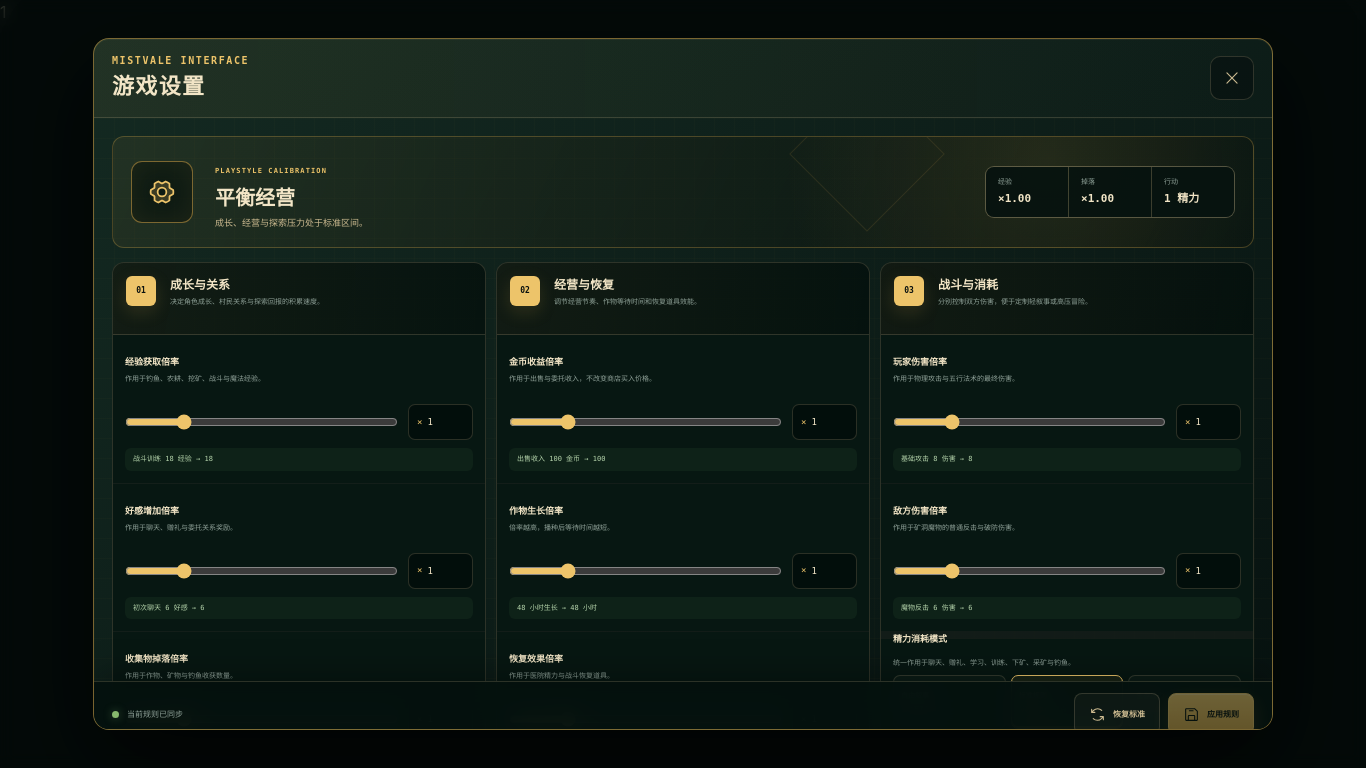
游戏玩法设置 › 提供九项真实规则、实时示例，并仅在应用后更新游戏状态
The image size is (1366, 768).
Expected: the text "战斗训练 18 经验 → 18" is shown, top-left (125, 448), bottom-right (473, 471)
Replace the text in the number field named "经验获取倍率数值" with "2" at (447, 422), box top-left (422, 405), bottom-right (472, 439)
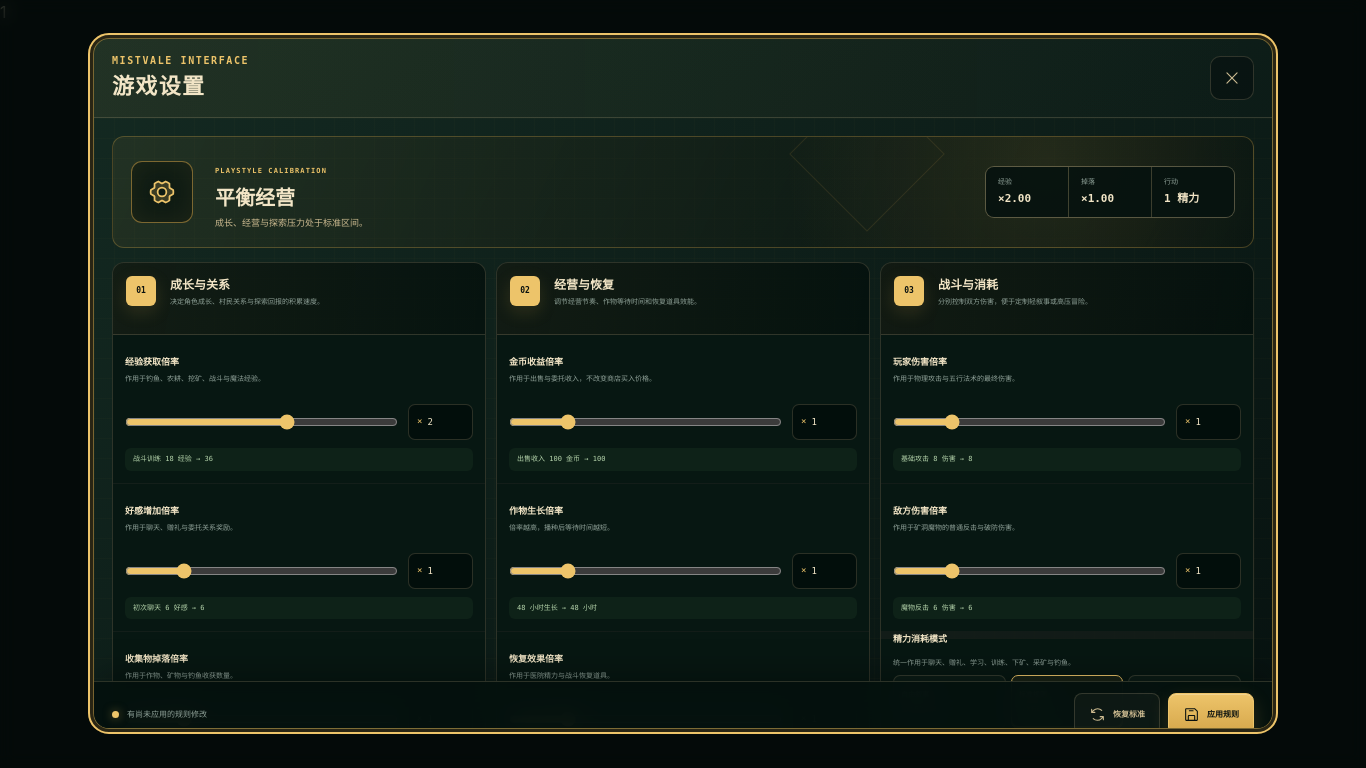
Expected: the text named "当前经验倍率" reads "1", top-left (0, 2), bottom-right (6, 22)
Now the text "战斗训练 18 经验 → 36" is shown, box top-left (125, 448), bottom-right (473, 471)
Click the button with aria-label "应用玩法规则" at (1211, 714), box top-left (1168, 693), bottom-right (1254, 735)
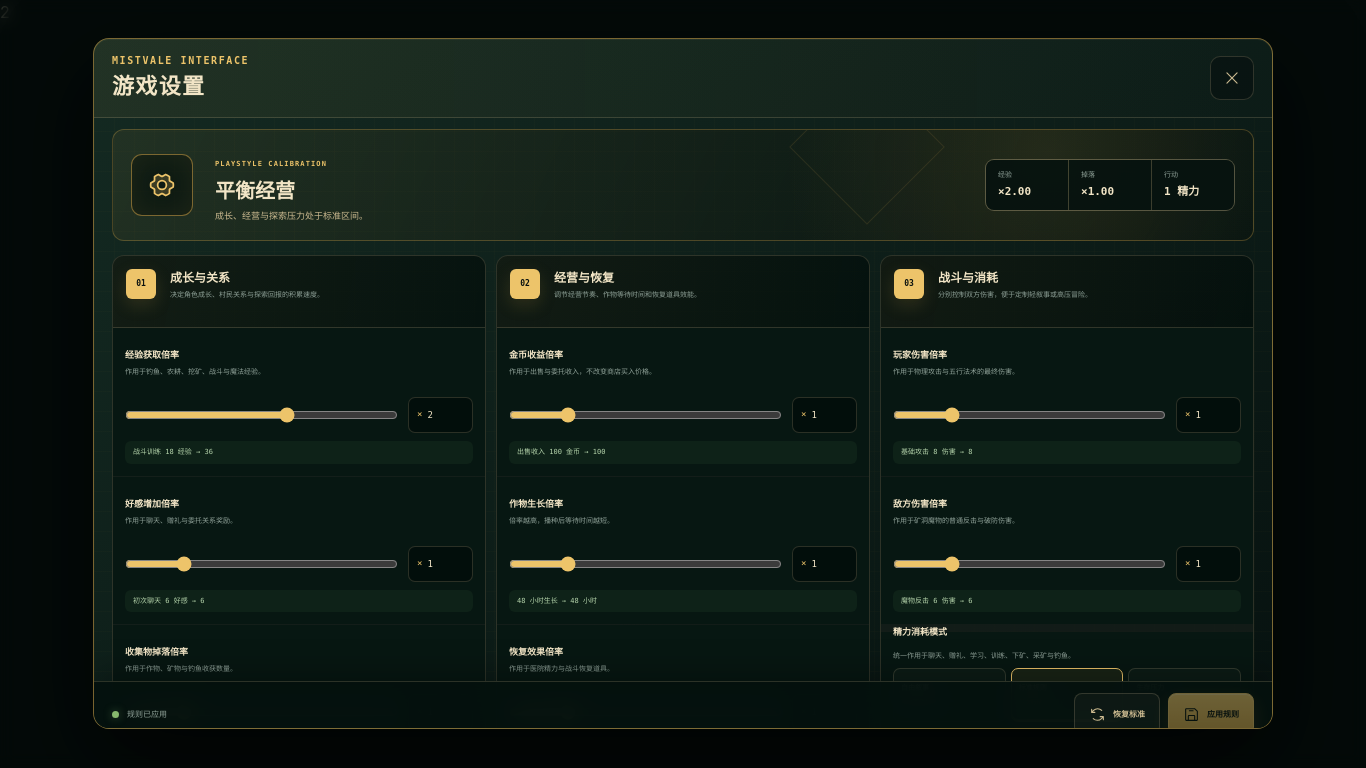
Expected: the text named "当前经验倍率" reads "2", top-left (0, 2), bottom-right (10, 22)
Now the text "规则已应用" is shown, box top-left (127, 708), bottom-right (167, 720)
